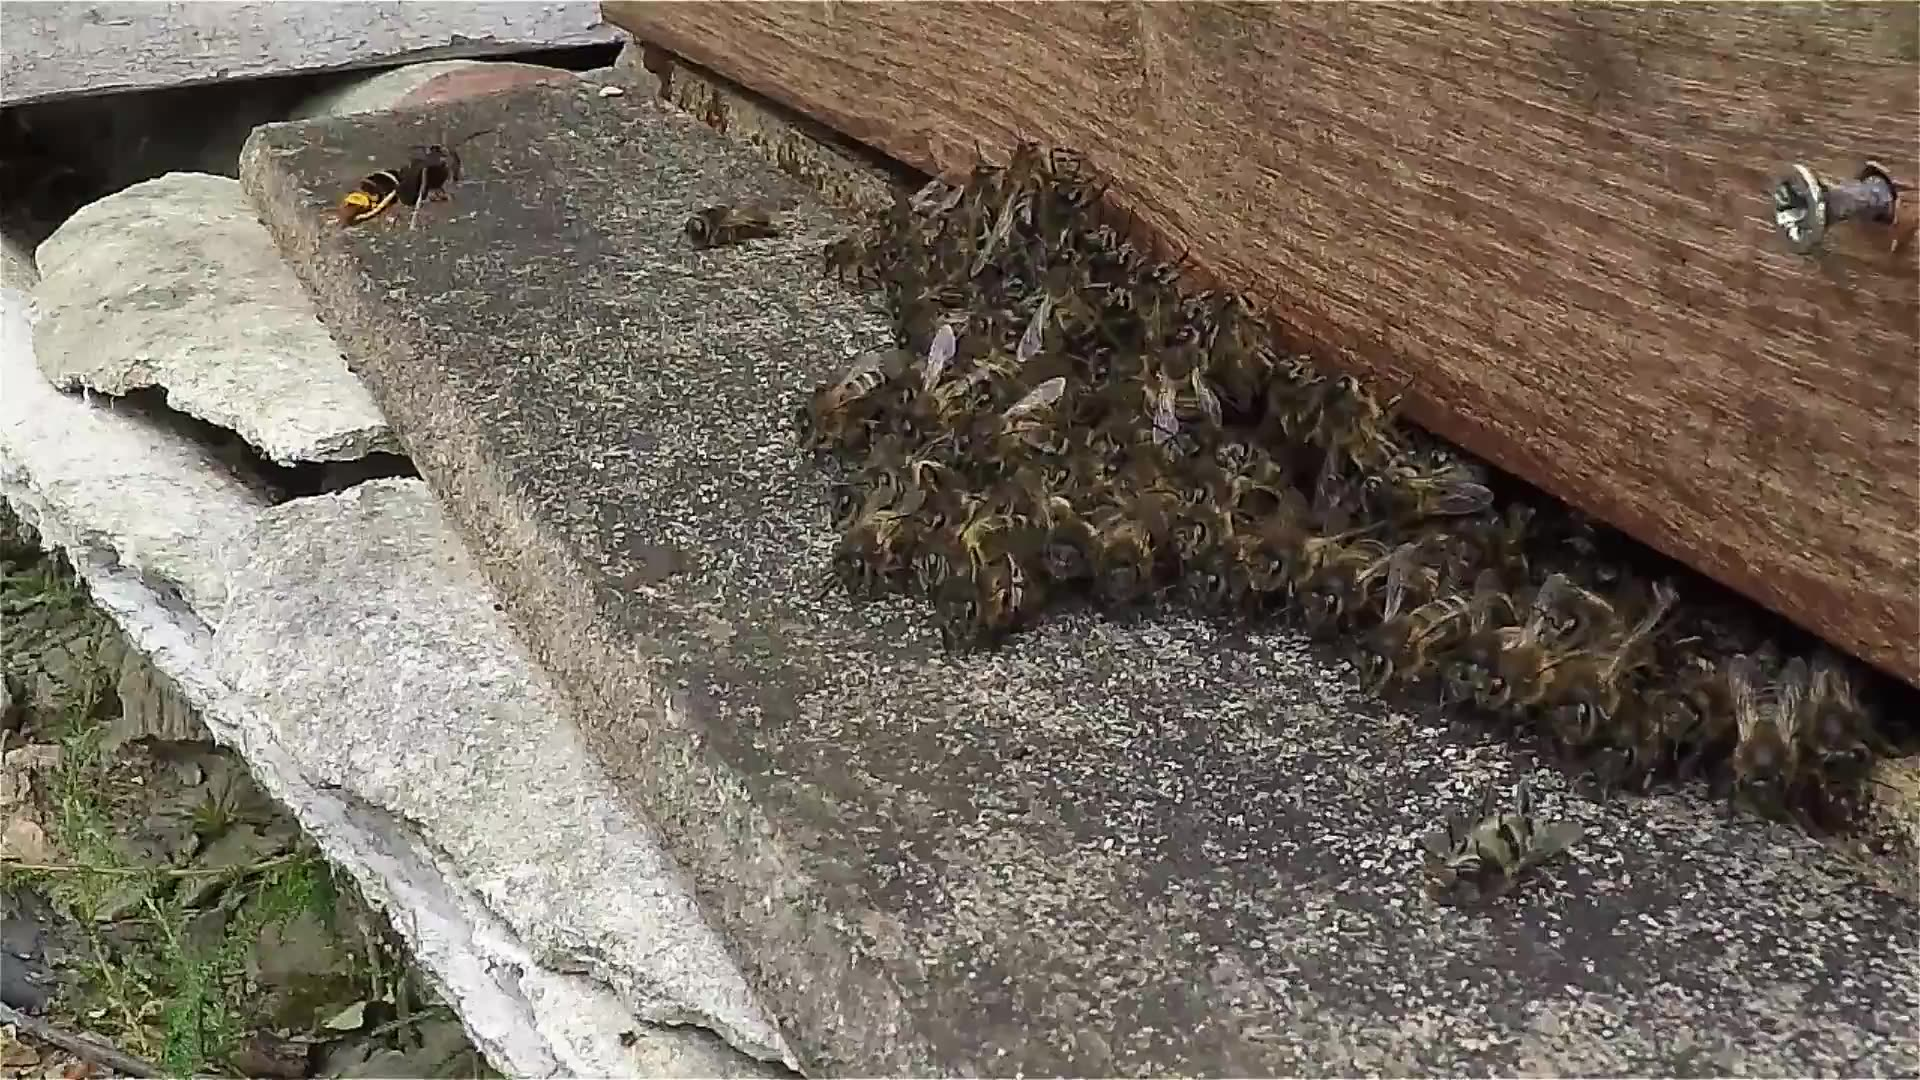bee: (816, 162, 1270, 651), (1269, 328, 1567, 721), (1573, 529, 1888, 837), (1404, 779, 1565, 910), (658, 183, 802, 255)
hornet: (338, 140, 473, 229)
